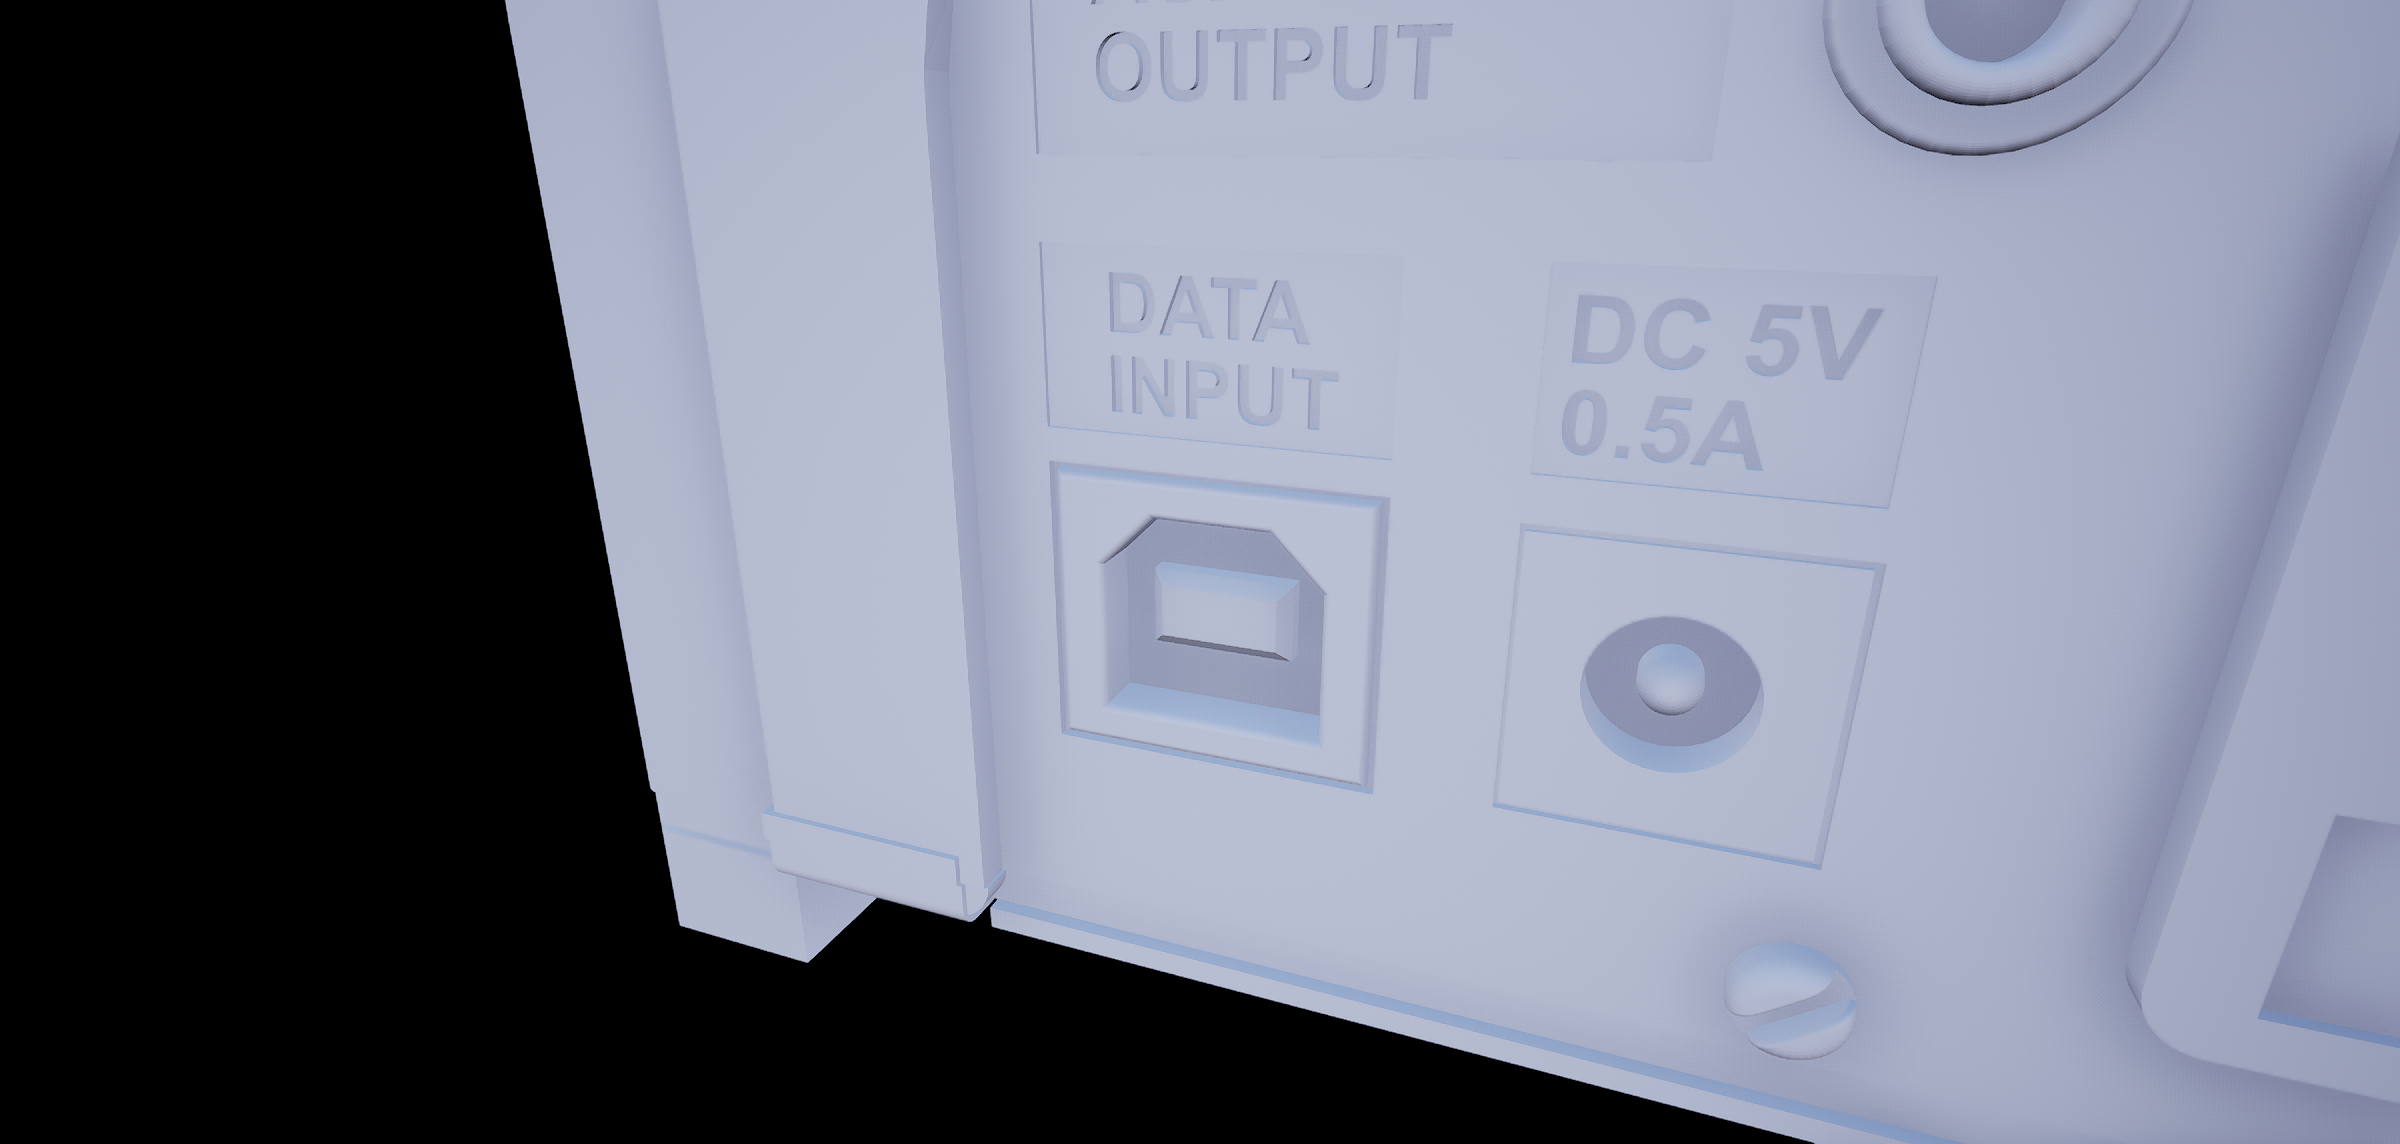aux: (1789, 2, 2209, 153)
dc: (1580, 597, 1776, 796)
usb: (1085, 496, 1345, 761)
